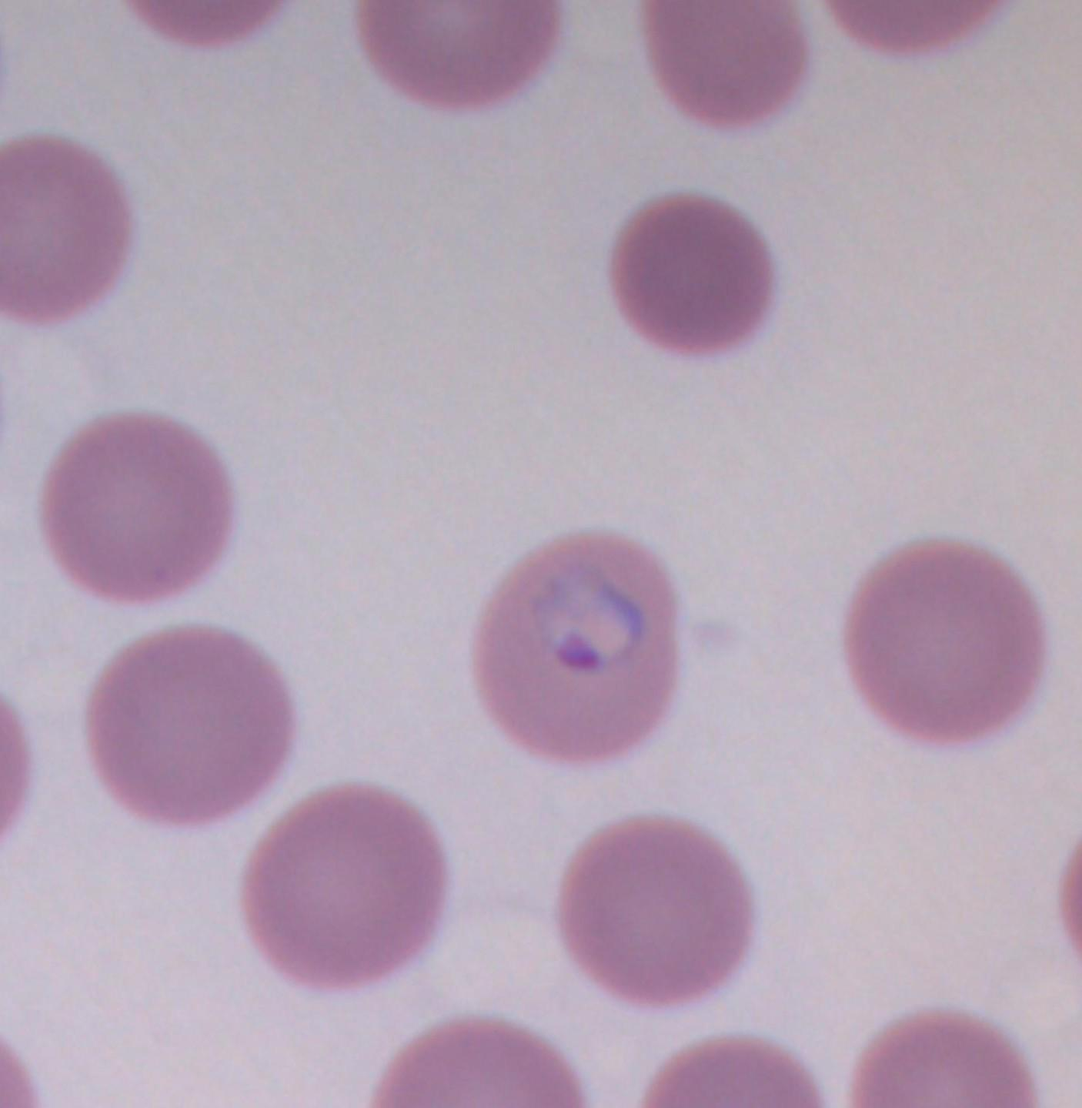Infected: (469, 527, 687, 770)
Uninfected: (85, 622, 298, 828), (244, 781, 449, 985), (847, 535, 1044, 742), (41, 412, 232, 602), (559, 822, 755, 1001), (608, 188, 779, 354), (0, 134, 139, 330), (643, 0, 808, 124)
